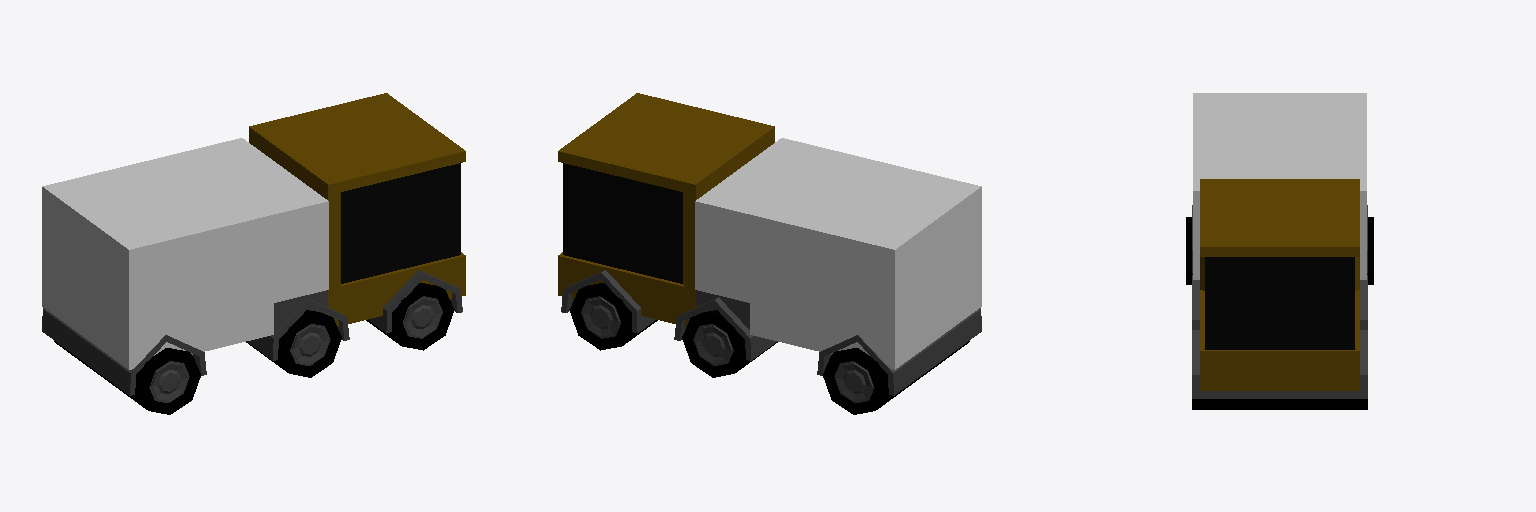
Rendered from truck.obj.
The picture shows the model from 3 angles: view 1: azimuth 30°, elevation 25°; view 2: azimuth 150°, elevation 25°; view 3: azimuth 270°, elevation 25°; orthographic projection.
Parts seen in each view (by area): view 1: Cube_Cube.001; view 2: Cube_Cube.001; view 3: Cube_Cube.001.
Part boxes in pixels (bbox=[...]): Cube_Cube.001: bbox=[42, 93, 465, 414]; Cube_Cube.001: bbox=[558, 93, 981, 414]; Cube_Cube.001: bbox=[1186, 93, 1373, 409].
Size of the model in its own units: 5.54 by 2.87 by 2.65.